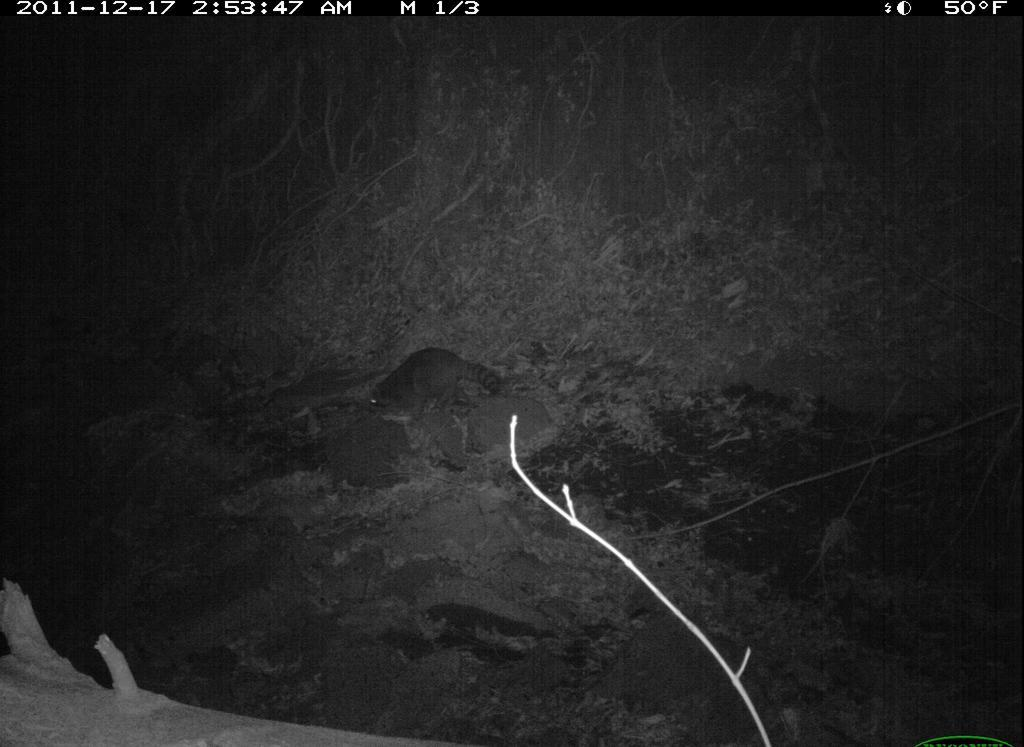raccoon: (356, 342, 509, 434)
